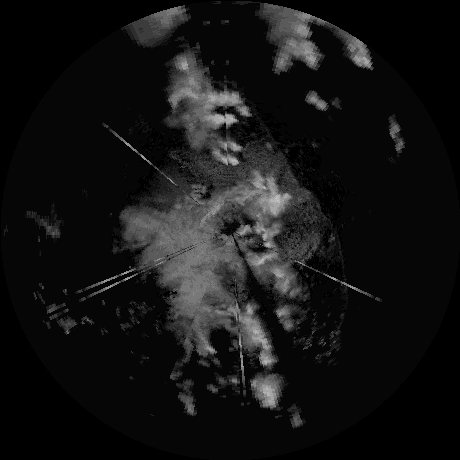frontgust: (326, 237, 352, 357)
